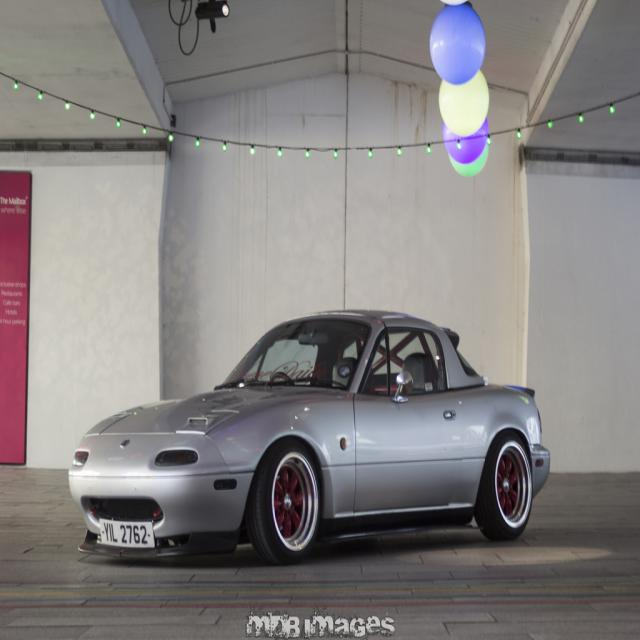car: (67, 308, 550, 564)
